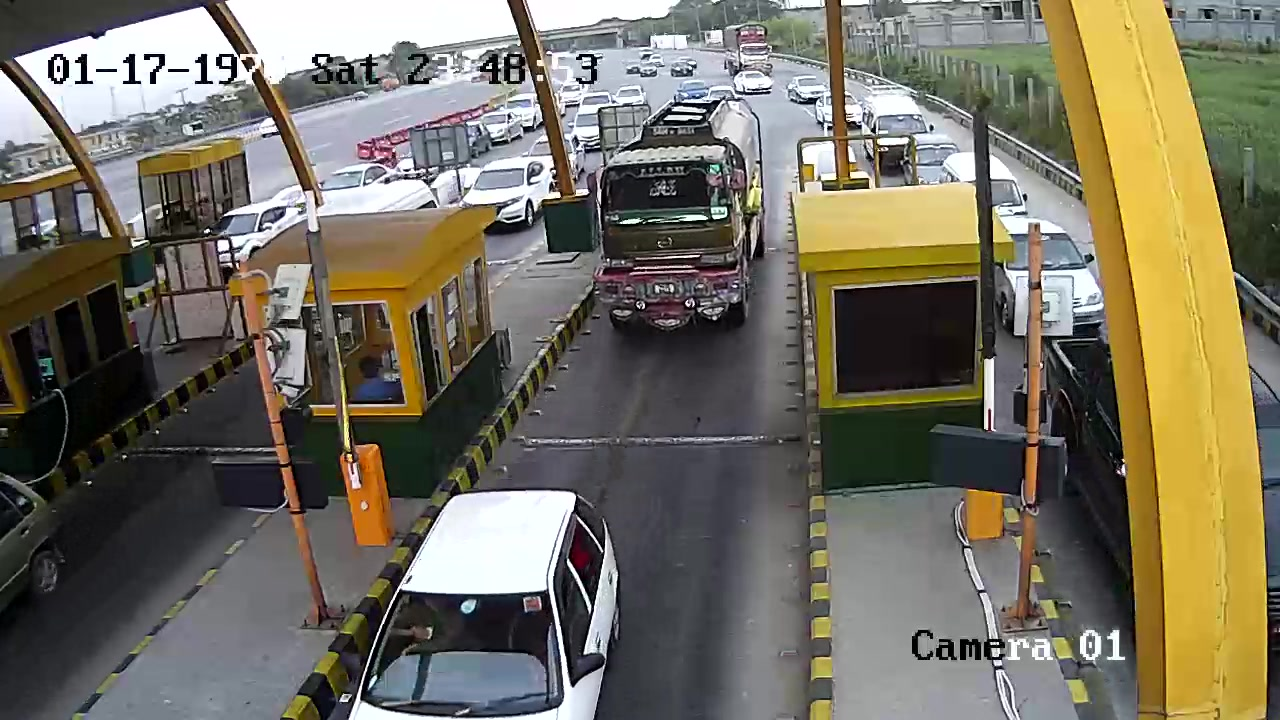F5: (600, 83, 767, 346)
